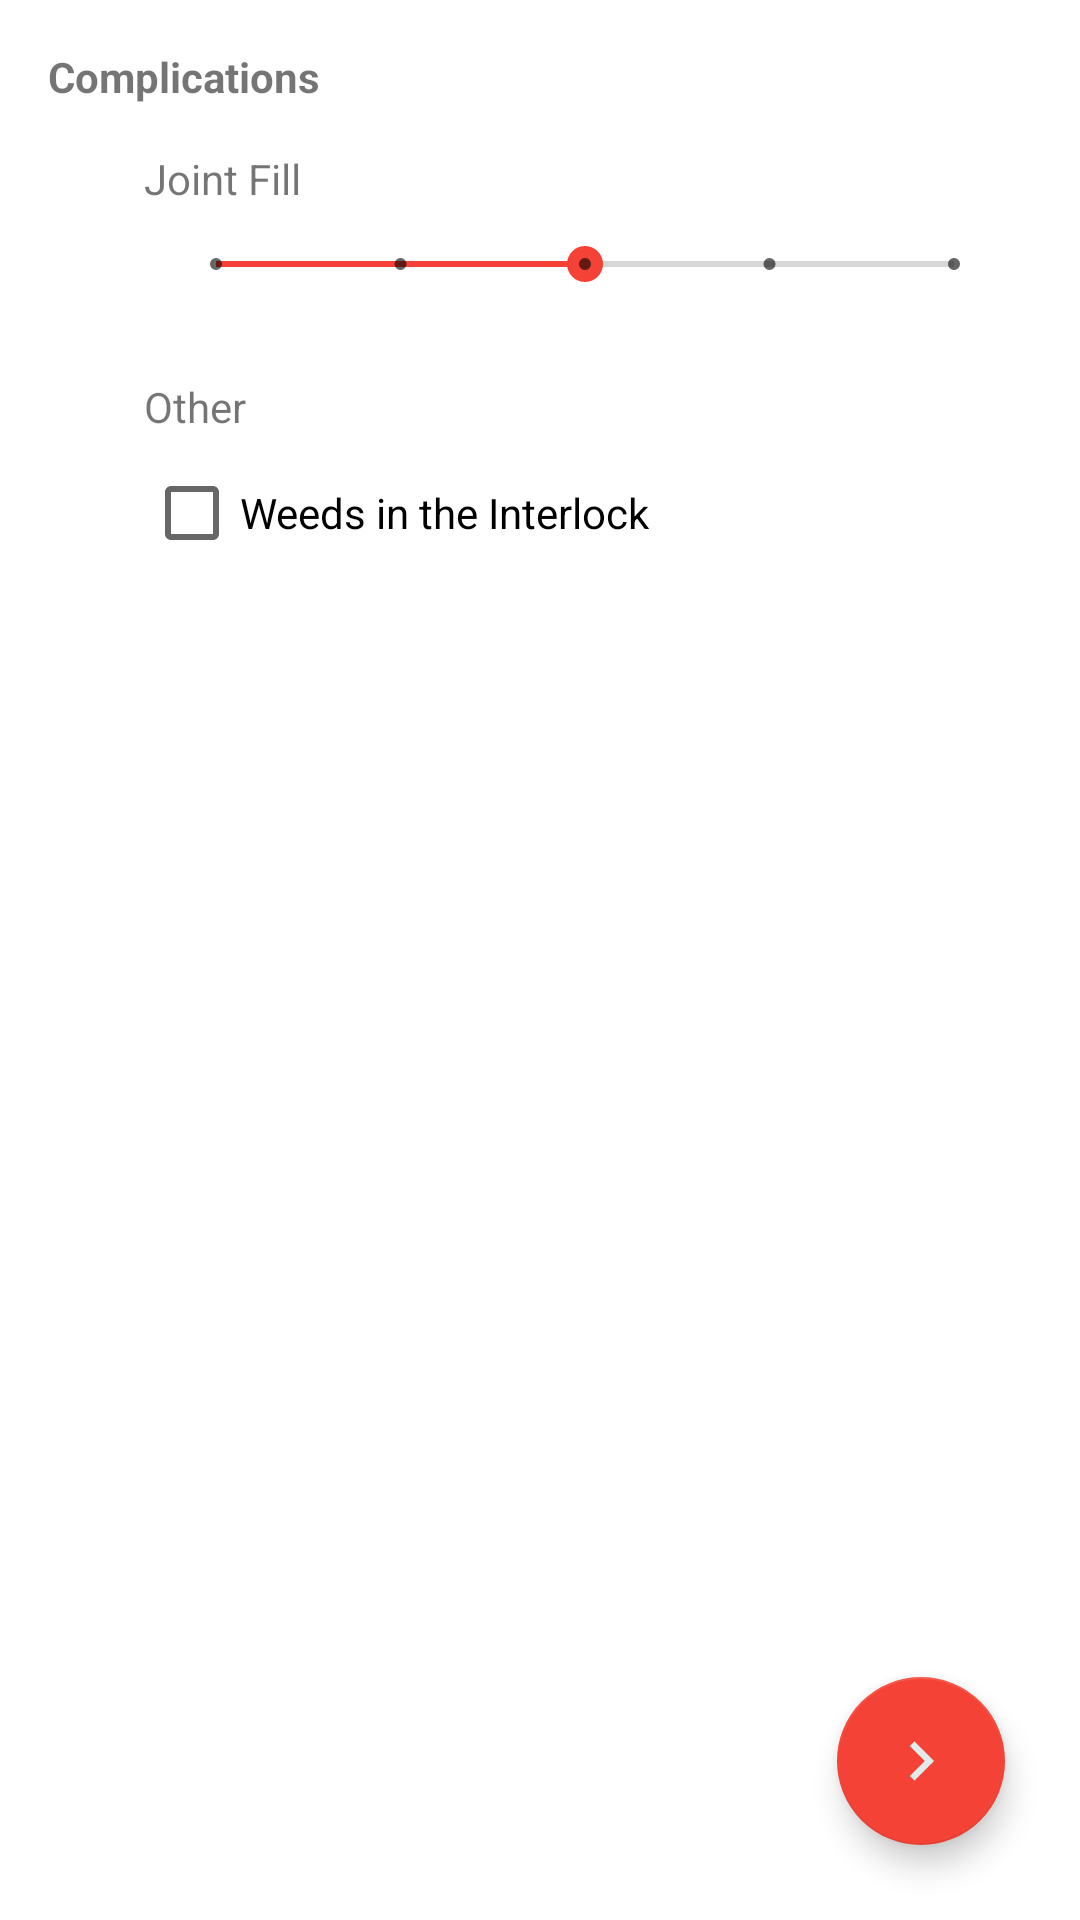

Icons on this 1080×1920 Android screen, each with the point to tap as (x,y):
right arrow: (921,1761)
